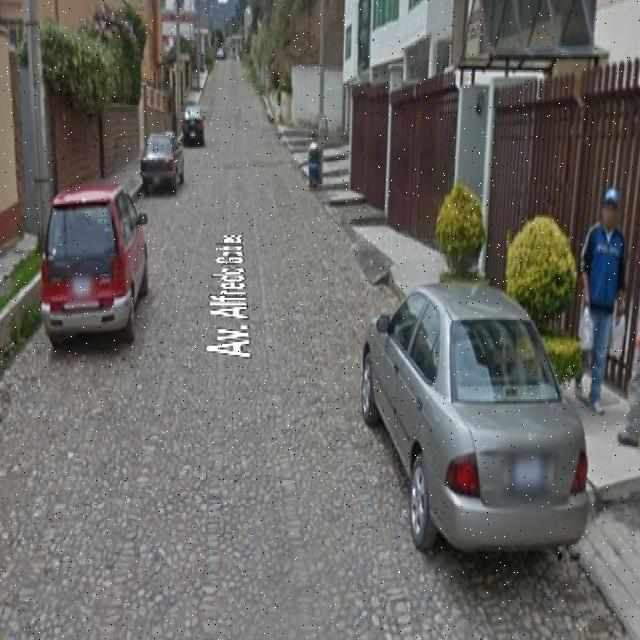cars: (360, 276, 593, 547), (38, 184, 150, 339), (138, 132, 188, 189), (183, 106, 202, 140)
